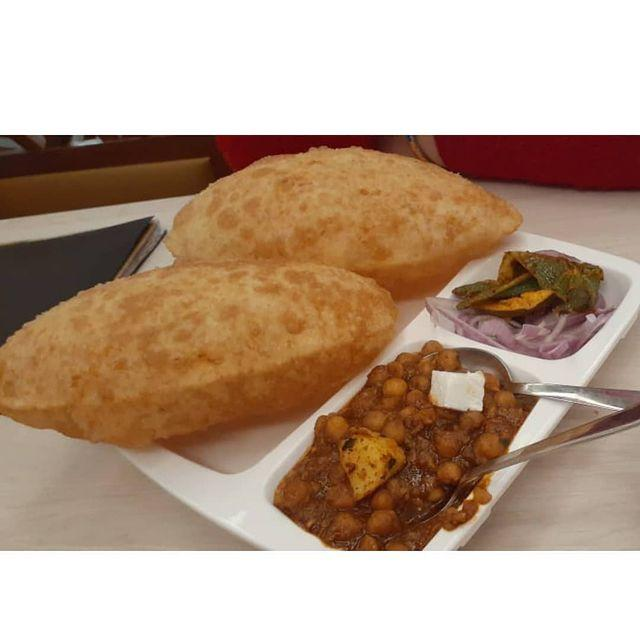Chole: (326, 342, 502, 526)
